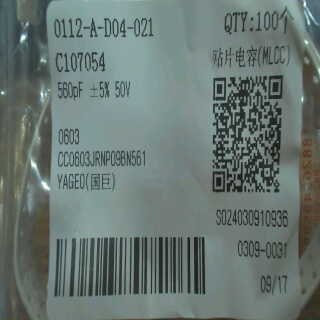560pF: (55, 77, 83, 107)
